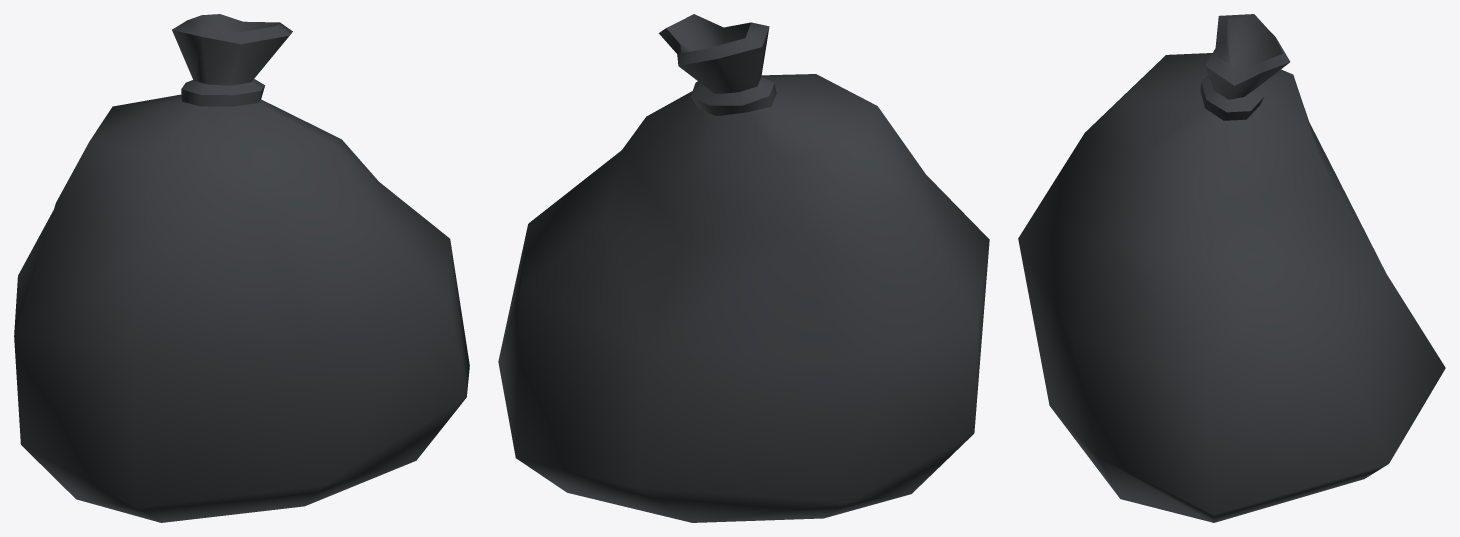
Rendered from SM_Prop_TrashBag_02.obj.
The picture shows the model from 3 angles, left to right: view 1: azimuth 30°, elevation 25°; view 2: azimuth 150°, elevation 25°; view 3: azimuth 270°, elevation 25°; orthographic projection. The views are drawn at different scales.
Parts seen in each view (by area): view 1: SM_Prop_TrashBag_02_Mat_SwatchOverlay_PolygonTown_01_Inst; view 2: SM_Prop_TrashBag_02_Mat_SwatchOverlay_PolygonTown_01_Inst; view 3: SM_Prop_TrashBag_02_Mat_SwatchOverlay_PolygonTown_01_Inst.
Part boxes in pixels (x1,y1,x2,y2): SM_Prop_TrashBag_02_Mat_SwatchOverlay_PolygonTown_01_Inst: (14,14,469,522); SM_Prop_TrashBag_02_Mat_SwatchOverlay_PolygonTown_01_Inst: (498,14,989,522); SM_Prop_TrashBag_02_Mat_SwatchOverlay_PolygonTown_01_Inst: (1018,14,1445,522).
Size of the model in its own units: 0.9314 by 0.8321 by 0.7845.
1 material, 1 textured.
